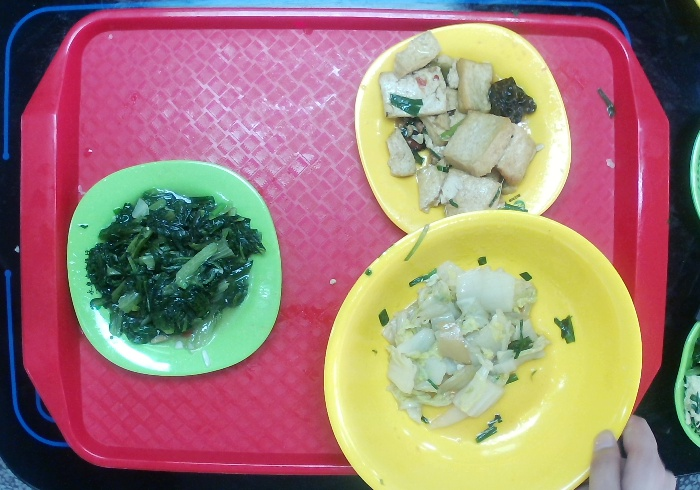YKMZ-Huang_Se_Fang_Die: (353, 20, 574, 236)
YKMZ-Huang_Se_Tang_Wan: (322, 209, 644, 490)
YKMZ-Lv_Se_Fang_Die: (65, 158, 284, 380)
